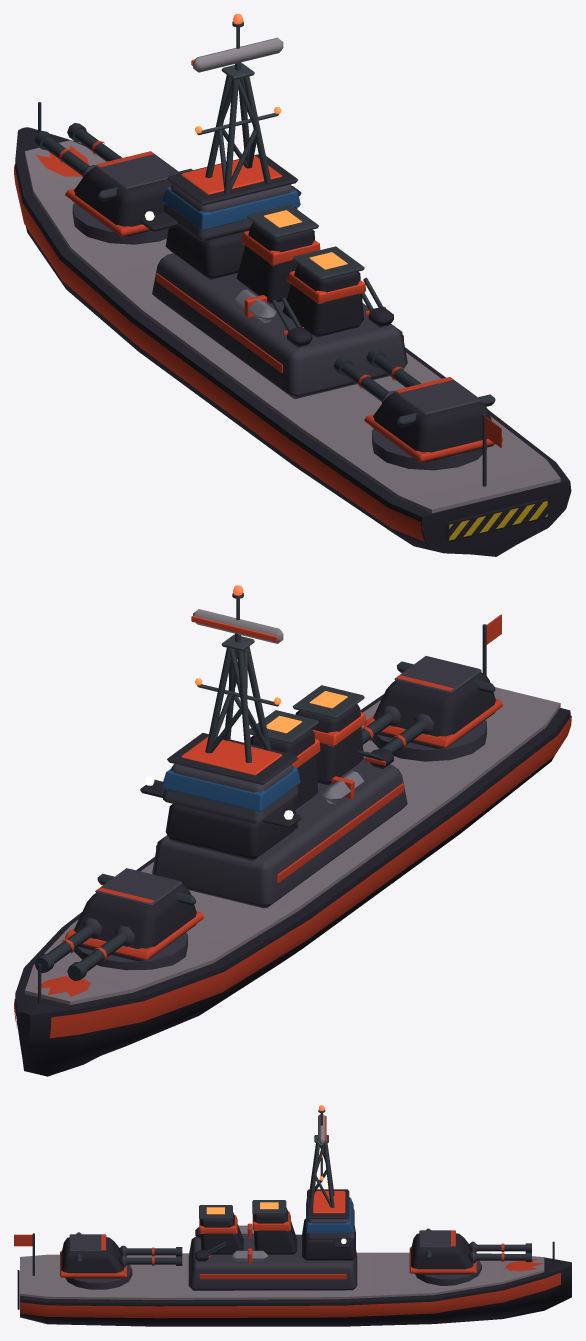
Rendered from destroyer.glb.
3 views of the same model, one above another, from view 1: azimuth 30°, elevation 25°; view 2: azimuth 150°, elevation 25°; view 3: azimuth 270°, elevation 25° (orthographic). The views are drawn at different scales.
Parts seen in each view (by area): view 1: destroyer Ashen charcoal, destroyer Bunker concrete, destroyer Ashen slate, destroyer Ember paint, destroyer Gunmetal, destroyer TurretA Ashen charcoal, destroyer TurretF Ashen charcoal, destroyer Tinted glass, destroyer Ash grey, destroyer TurretA Gunmetal, destroyer TurretA Ashen slate, destroyer TurretF Gunmetal (+5 smaller); view 2: destroyer Ashen charcoal, destroyer Bunker concrete, destroyer Ashen slate, destroyer Ember paint, destroyer Gunmetal, destroyer TurretF Ashen charcoal, destroyer TurretA Ashen charcoal, destroyer Tinted glass, destroyer TurretF Ashen slate, destroyer TurretA Ashen slate, destroyer TurretF Gunmetal, destroyer Ash grey (+4 smaller); view 3: destroyer Ashen charcoal, destroyer Bunker concrete, destroyer Ember paint, destroyer Ashen slate, destroyer Gunmetal, destroyer TurretF Ashen charcoal, destroyer TurretA Ashen charcoal, destroyer TurretA Gunmetal, destroyer TurretF Gunmetal, destroyer TurretA Ashen slate, destroyer TurretF Ashen slate, destroyer Tinted glass (+4 smaller).
Boxes of the visible parts, x1,y1,x2,y2 form: destroyer Ashen charcoal: (15, 127, 571, 556); destroyer Bunker concrete: (25, 140, 560, 513); destroyer Ashen slate: (72, 184, 486, 470); destroyer Ember paint: (14, 59, 501, 541); destroyer Gunmetal: (38, 21, 486, 486); destroyer TurretA Ashen charcoal: (371, 392, 494, 462); destroyer TurretF Ashen charcoal: (72, 167, 172, 236); destroyer Tinted glass: (162, 187, 300, 230); destroyer Ash grey: (193, 37, 283, 322); destroyer TurretA Gunmetal: (333, 348, 495, 427); destroyer TurretA Ashen slate: (382, 380, 481, 415); destroyer TurretF Gunmetal: (34, 123, 192, 201); destroyer Ashen charcoal: (15, 694, 570, 1076); destroyer Bunker concrete: (25, 687, 560, 1004); destroyer Ashen slate: (73, 720, 486, 970); destroyer Ember paint: (14, 614, 571, 1038); destroyer Gunmetal: (38, 593, 486, 1003); destroyer TurretF Ashen charcoal: (74, 884, 196, 961); destroyer TurretA Ashen charcoal: (373, 672, 495, 748); destroyer Tinted glass: (162, 767, 300, 812); destroyer TurretF Ashen slate: (82, 868, 182, 946); destroyer TurretA Ashen slate: (382, 656, 481, 734); destroyer TurretF Gunmetal: (34, 873, 195, 980); destroyer Ash grey: (193, 609, 364, 804); destroyer Ashen charcoal: (17, 1189, 571, 1326); destroyer Bunker concrete: (20, 1252, 544, 1299); destroyer Ember paint: (14, 1115, 560, 1318); destroyer Ashen slate: (65, 1198, 481, 1290); destroyer Gunmetal: (32, 1109, 554, 1275); destroyer TurretF Ashen charcoal: (411, 1233, 473, 1274); destroyer TurretA Ashen charcoal: (61, 1237, 123, 1278); destroyer TurretA Gunmetal: (75, 1232, 182, 1265); destroyer TurretF Gunmetal: (425, 1228, 531, 1261); destroyer TurretA Ashen slate: (69, 1234, 127, 1267); destroyer TurretF Ashen slate: (419, 1230, 477, 1263); destroyer Tinted glass: (306, 1197, 353, 1233).
Size of the model in its own units: 2.62 by 5.31 by 12.13.
Materials: 11 (7 with a texture image).
